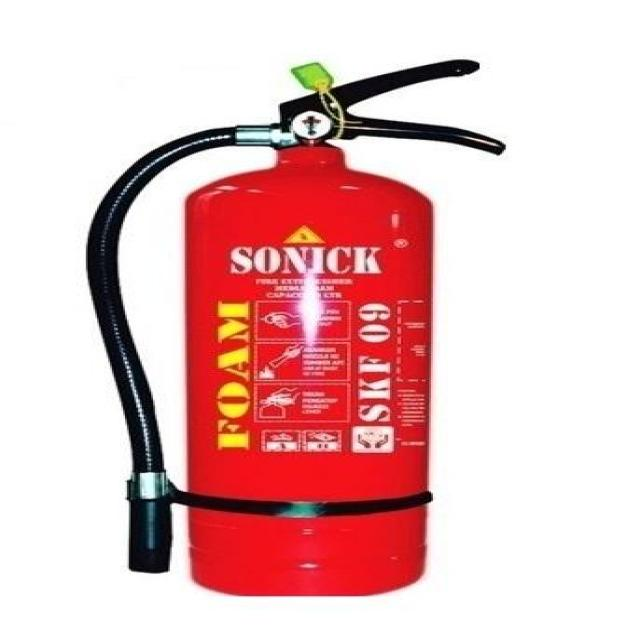fire_extinguisher: (71, 52, 515, 603)
